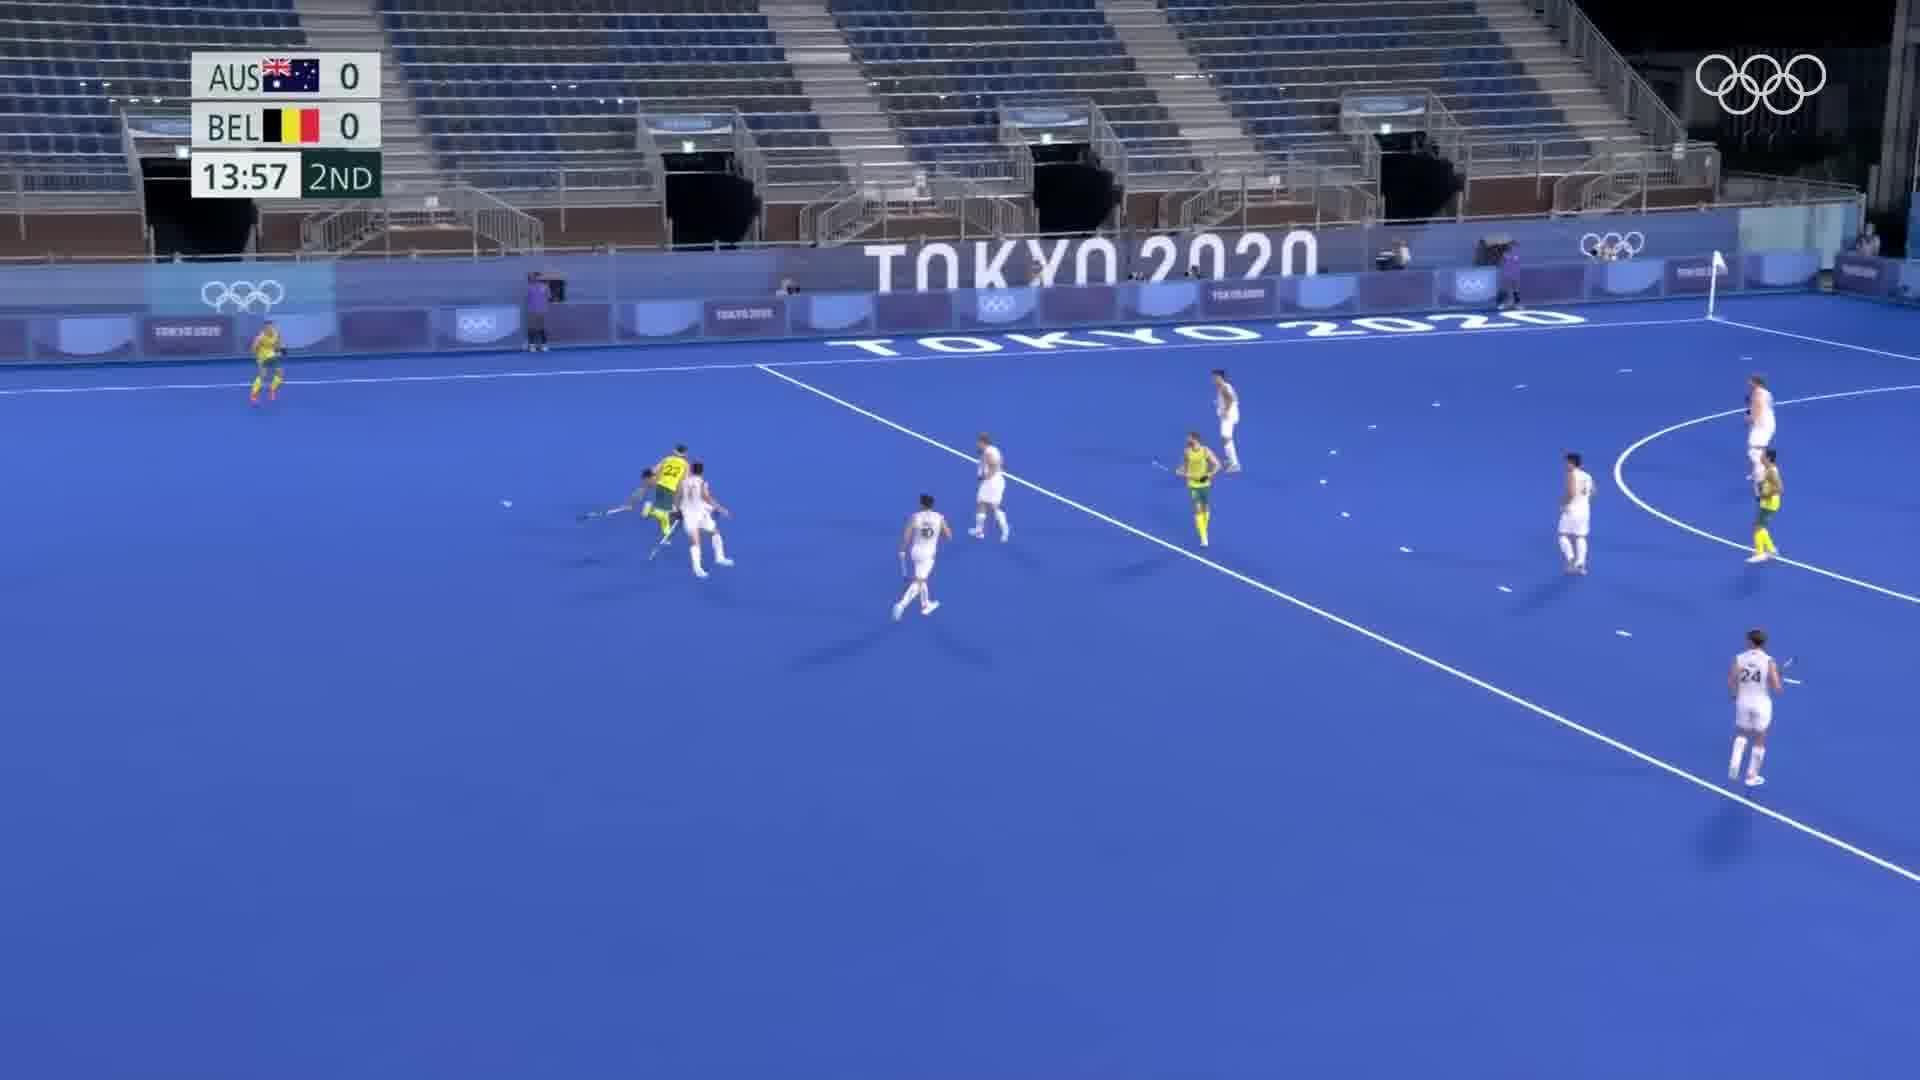ball: (491, 496, 520, 516)
